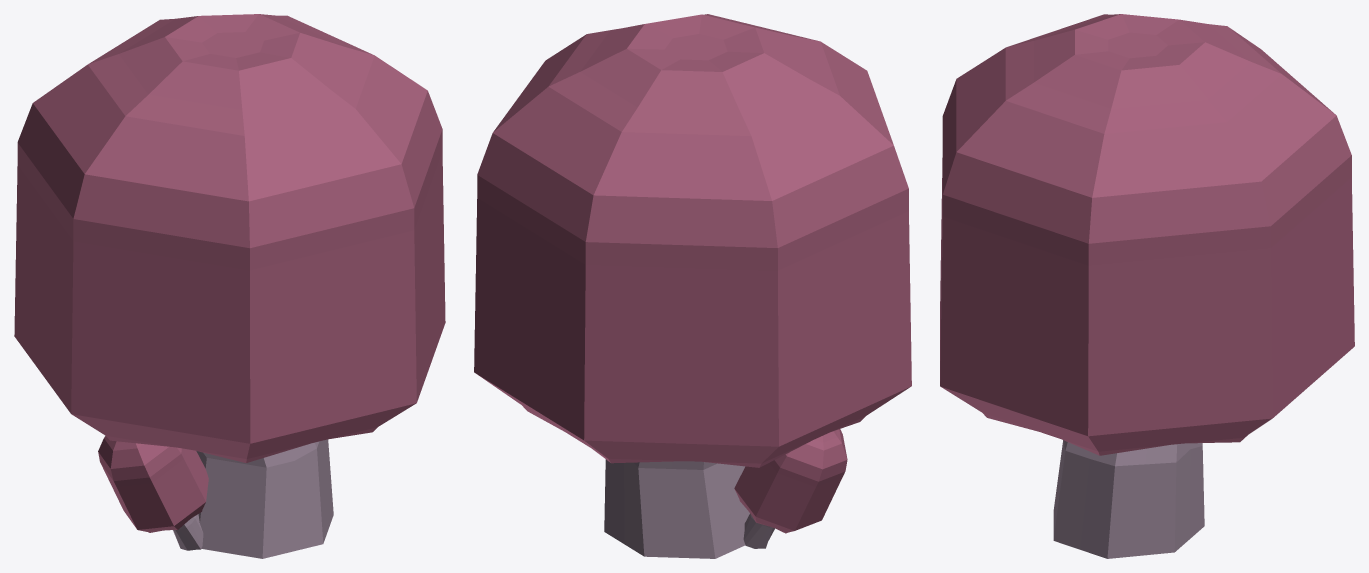
The model's file is mushroom-4.fbx.
3 views of the same model, side by side, from view 1: azimuth 30°, elevation 25°; view 2: azimuth 150°, elevation 25°; view 3: azimuth 270°, elevation 25° (orthographic). The views are drawn at different scales.
Parts seen in each view (by area): view 1: Cylinder; view 2: Cylinder; view 3: Cylinder.
Part boxes in pixels (left/top/right/bottom): Cylinder: left=14, top=14, right=445, bottom=558; Cylinder: left=474, top=14, right=911, bottom=558; Cylinder: left=940, top=14, right=1354, bottom=558.
Bounding box in the file's own units: 232 × 289 × 226.
